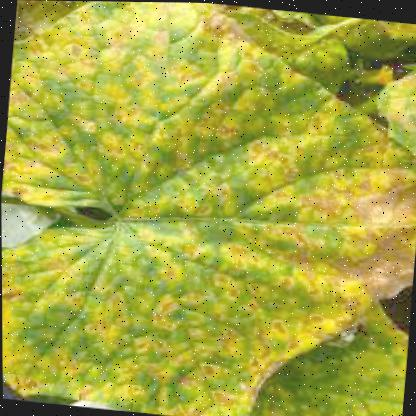Anthracnose: (171, 102, 415, 380), (1, 171, 223, 411), (1, 0, 245, 205)
